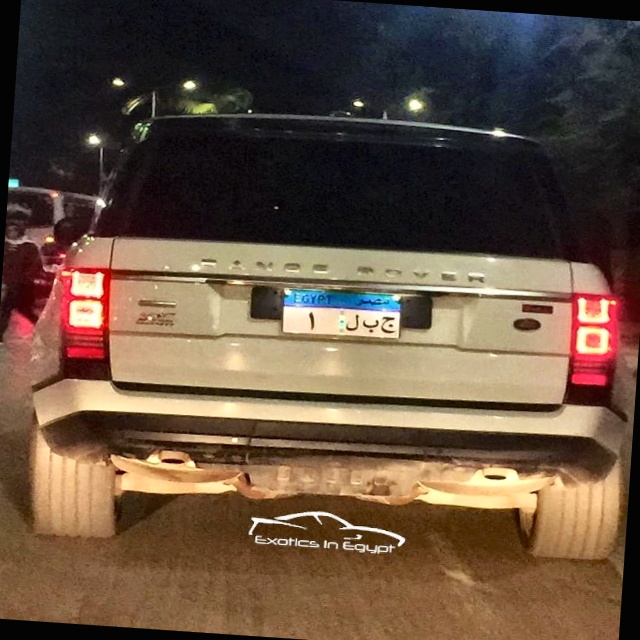License Plate: (278, 285, 404, 342)
